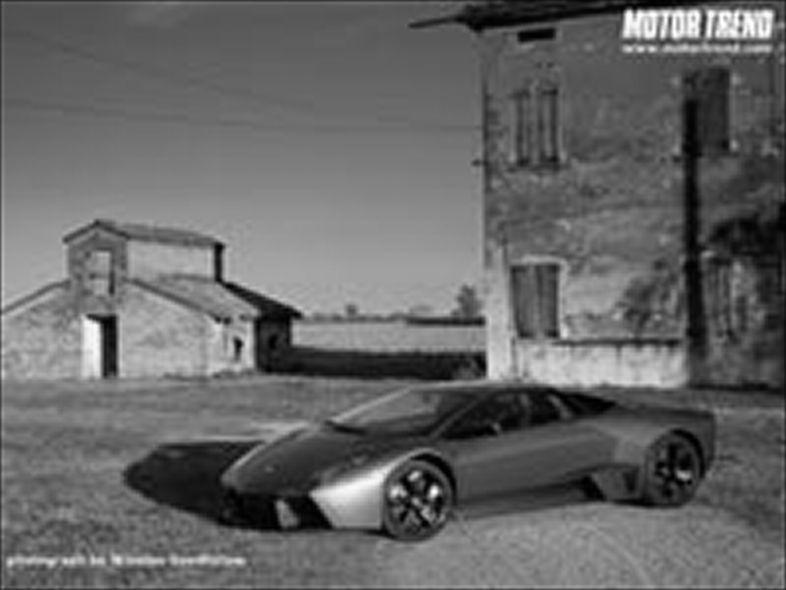car: (218, 383, 722, 545)
